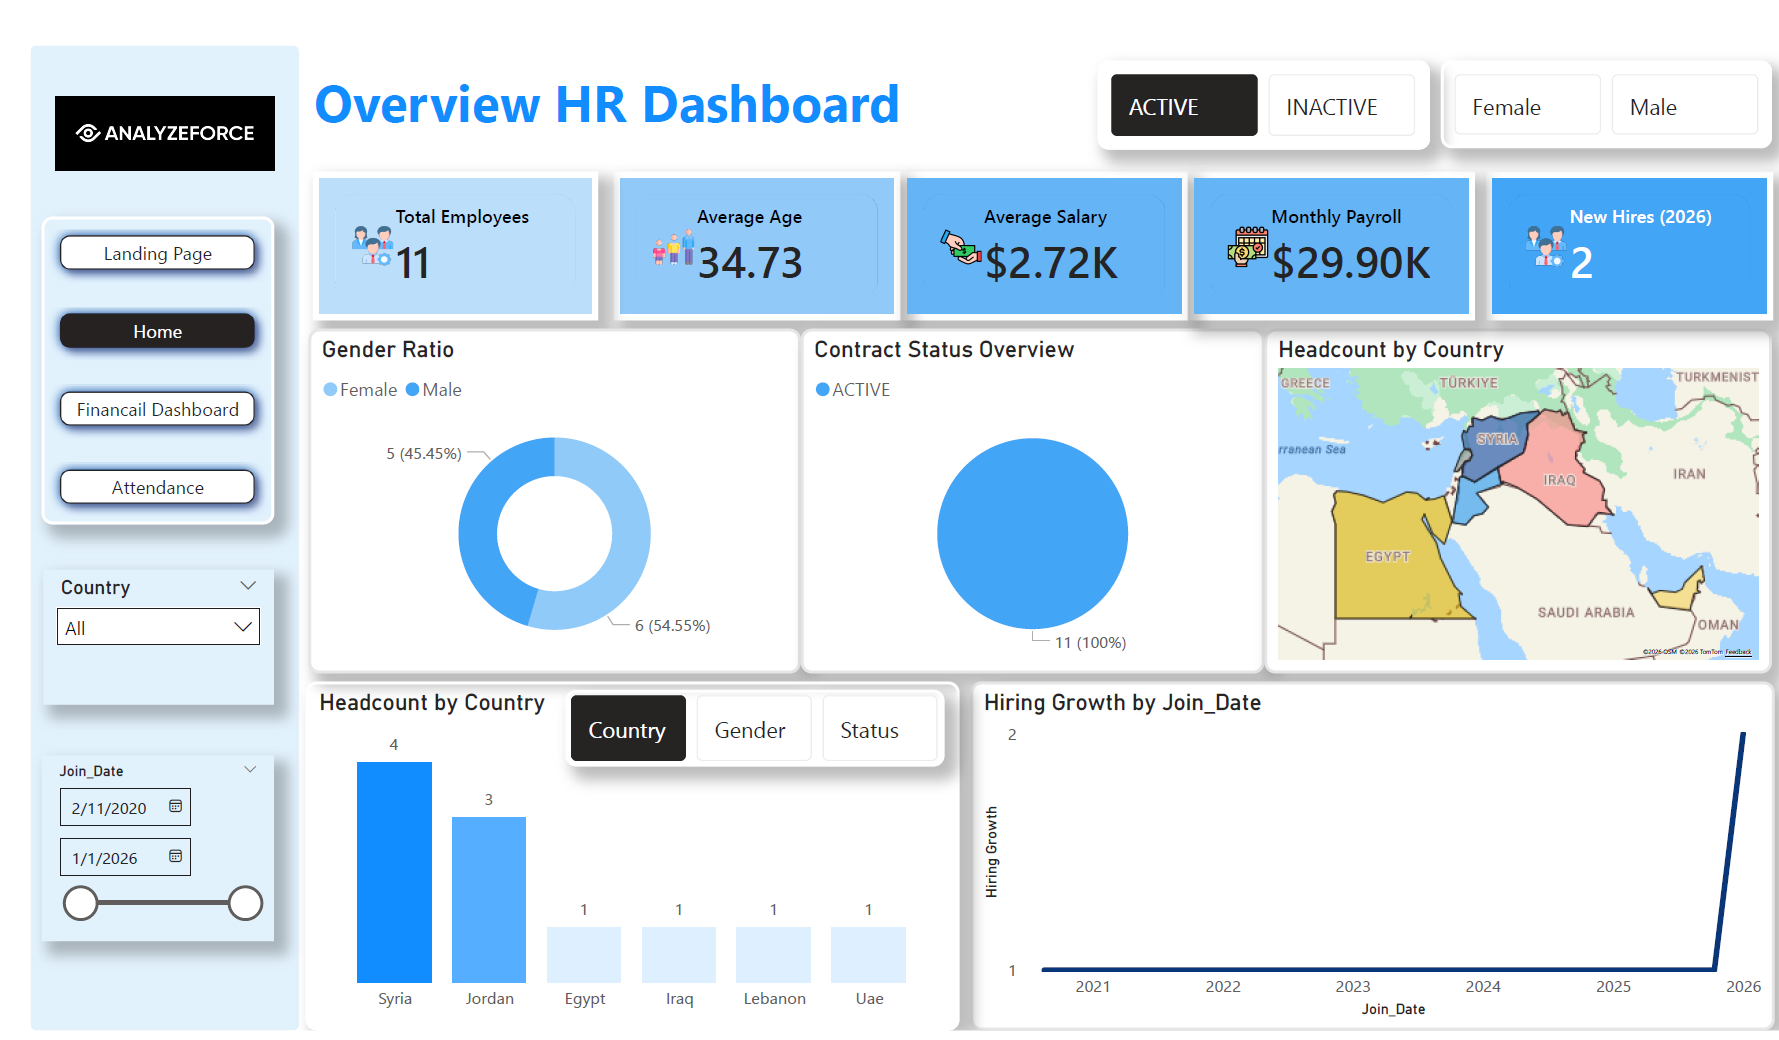

The dashboard page shown, as its layout file describes it:
{"tool":"powerbi","page":{"name":"Home","canvas":[1280,720],"ordinal":1},"visuals":[{"type":"cardVisual","fields":{"Data":["Avg(Employee.Age)"]},"box":[426,92,210,109],"z":0},{"type":"shape","box":[0,0,195.9,719.7],"z":1000,"group":"g1"},{"type":"cardVisual","fields":{"Data":["Count(Employee.ID)"]},"box":[205.8,91.6,209.5,109.7],"z":1000},{"type":"image","box":[17.7,37.3,160.1,54],"z":2000,"group":"g1"},{"type":"cardVisual","fields":{"Data":["Avg(Employee.Salary_USD)"]},"box":[635.7,91.6,210.4,109.7],"z":2000},{"type":"pageNavigator","box":[8.2,125.3,169.8,224.8],"z":3000,"group":"g1"},{"type":"donutChart","title":"Gender Ratio","fields":{"Category":["Employee.Gender"],"Y":["Count(Employee.ID)"]},"box":[202.6,207.3,360.7,251.8],"z":3000},{"type":"pieChart","title":"Contract Status Overview","fields":{"Y":["Count(Employee.ID)"],"Category":["Employee.Contract Status"]},"box":[563.3,207.3,338.4,251.8],"z":4000},{"type":"azureMap","title":"Headcount by Country","fields":{"Category":["Employee.Country"],"Series":["Employee.Governrate"]},"box":[901.7,207.3,371.2,251.8],"z":5000},{"type":"cardVisual","fields":{"Data":["Sum(Employee.Salary_USD)"]},"box":[846,91.6,210.4,109.7],"z":6000},{"type":"lineChart","fields":{"Y":["CountNonNull(Employee.ID)"],"Category":["Employee.Join_Date.Variation.Date Hierarchy.Year"]},"box":[687.4,464.9,587.9,255.3],"z":7000},{"type":"group","id":"g1","title":"Group 1","box":[0,0,195.9,719.7],"z":8000},{"type":"textbox","title":"contract status filter","box":[202.2,10.9,551.3,75.3],"z":9000},{"type":"cardVisual","fields":{"Data":["My Measure.New Hires (2026)"]},"box":[1063.7,91.6,210,109.7],"z":10000},{"type":"slicer","fields":{"Values":["Employee.Join_Date"]},"box":[7.9,518.7,169.9,136.5],"z":11000},{"type":"advancedSlicerVisual","fields":{"Values":["Employee.Contract Status"]},"box":[780,10.8,242.6,64.8],"z":12000},{"type":"advancedSlicerVisual","fields":{"Values":["Dim_Employee.Gender"]},"box":[1031.5,10.8,241.7,63.9],"z":13000},{"type":"slicer","fields":{"Values":["Dim_Employee.Country"]},"box":[9.4,382.9,168.6,99.5],"z":14000},{"type":"columnChart","fields":{"Category":["Dim_Employee.Country"],"Y":["Count(Dim_Employee.ID)"]},"box":[201.4,464.9,477.8,255.3],"z":15000,"group":"g2"},{"type":"group","id":"g2","title":"Group 2","box":[201.4,464.9,477.8,255.3],"z":16001},{"type":"advancedSlicerVisual","fields":{"Values":["Slice By.Slice By"]},"box":[391.8,470.6,277,56.1],"z":16500,"group":"g2"}]}

Visuals, with their boxes on the page's 1280x720 design canvas (x1, y1, x2, y2). These are canvas units, not pixel positions in the 1779x1040 screenshot, which may show the page scaled, cropped or inside an application window:
cardVisual - Avg(Employee.Age): l=426, t=92, r=636, b=201
shape: l=0, t=0, r=196, b=720
cardVisual - Count(Employee.ID): l=206, t=92, r=415, b=201
image: l=18, t=37, r=178, b=91
cardVisual - Avg(Employee.Salary_USD): l=636, t=92, r=846, b=201
pageNavigator: l=8, t=125, r=178, b=350
"Gender Ratio" donutChart: l=203, t=207, r=563, b=459
"Contract Status Overview" pieChart: l=563, t=207, r=902, b=459
"Headcount by Country" azureMap: l=902, t=207, r=1273, b=459
cardVisual - Sum(Employee.Salary_USD): l=846, t=92, r=1056, b=201
lineChart - CountNonNull(Employee.ID) x Employee.Join_Date.Variation.Date Hierarchy.Year: l=687, t=465, r=1275, b=720
"Group 1" group: l=0, t=0, r=196, b=720
"contract status filter" textbox: l=202, t=11, r=754, b=86
cardVisual - My Measure.New Hires (2026): l=1064, t=92, r=1274, b=201
slicer - Employee.Join_Date: l=8, t=519, r=178, b=655
advancedSlicerVisual - Employee.Contract Status: l=780, t=11, r=1023, b=76
advancedSlicerVisual - Dim_Employee.Gender: l=1032, t=11, r=1273, b=75
slicer - Dim_Employee.Country: l=9, t=383, r=178, b=482
columnChart - Dim_Employee.Country x Count(Dim_Employee.ID): l=201, t=465, r=679, b=720
"Group 2" group: l=201, t=465, r=679, b=720
advancedSlicerVisual - Slice By.Slice By: l=392, t=471, r=669, b=527
